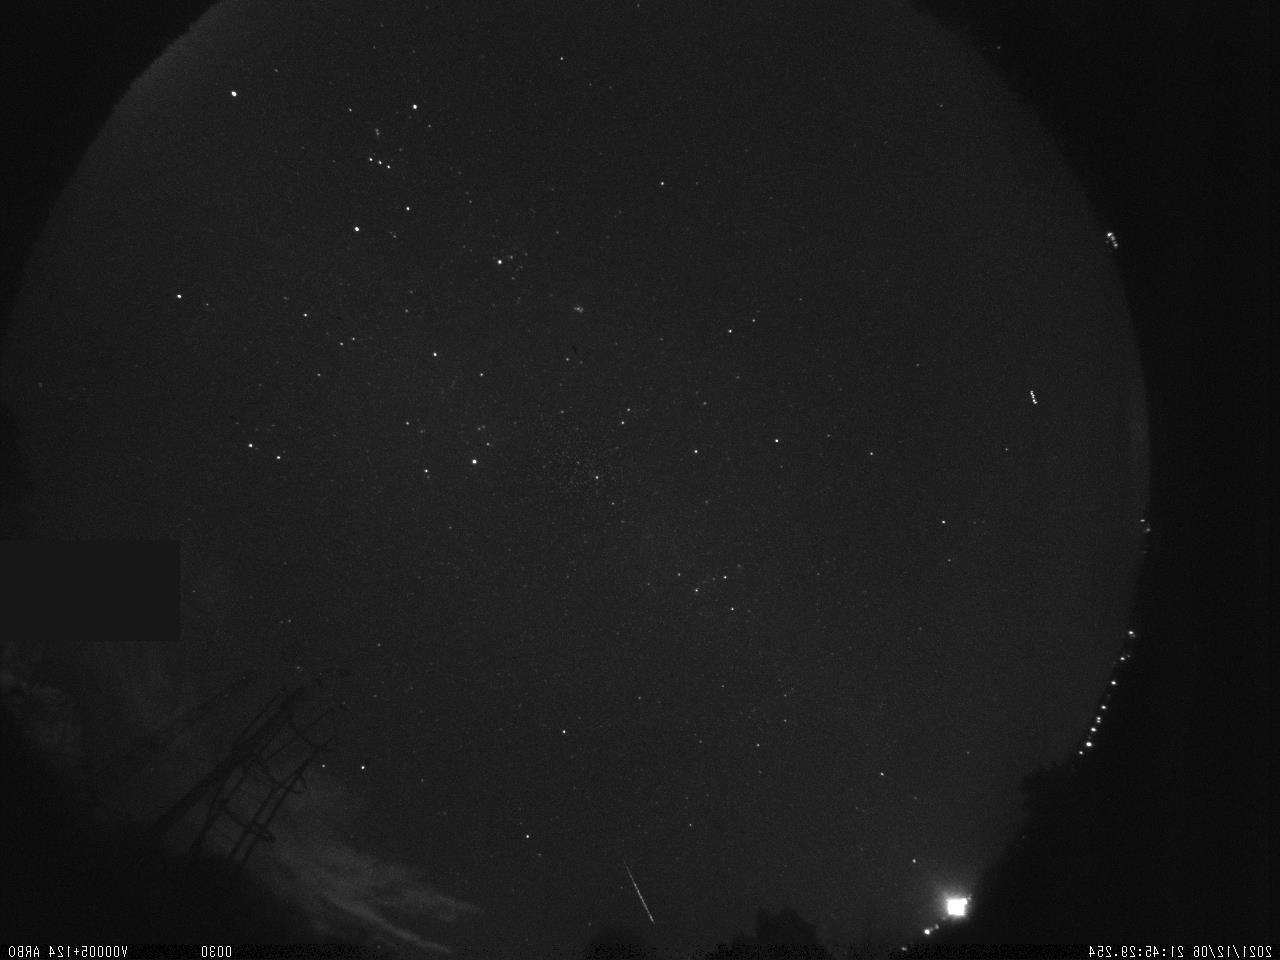meteor: (601, 855, 691, 936)
